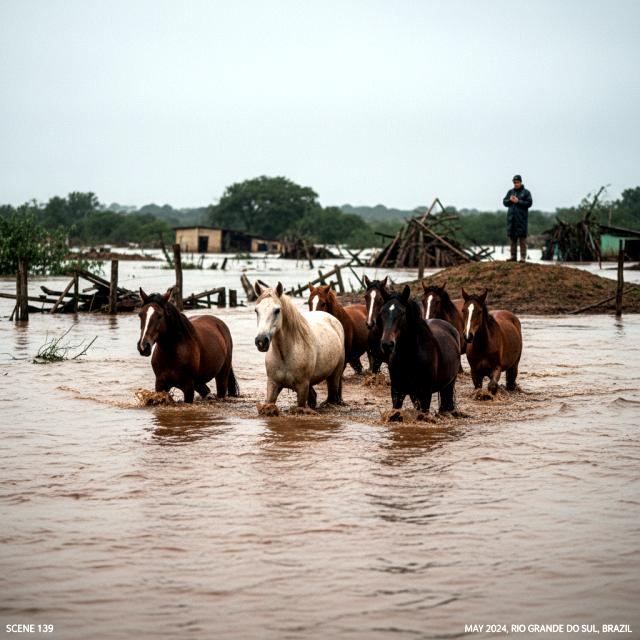civilian: (504, 173, 539, 262)
horse: (246, 280, 359, 426), (132, 280, 239, 406), (375, 282, 465, 430), (306, 280, 391, 386), (456, 287, 530, 401), (357, 278, 417, 374), (420, 282, 472, 377)
